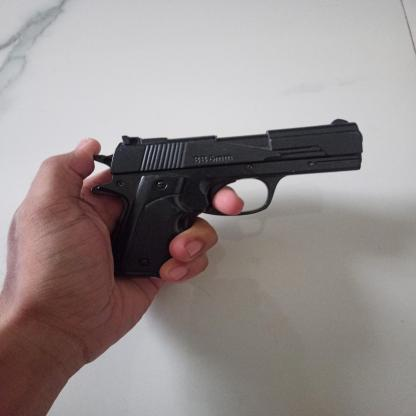handgun: (94, 118, 365, 280)
